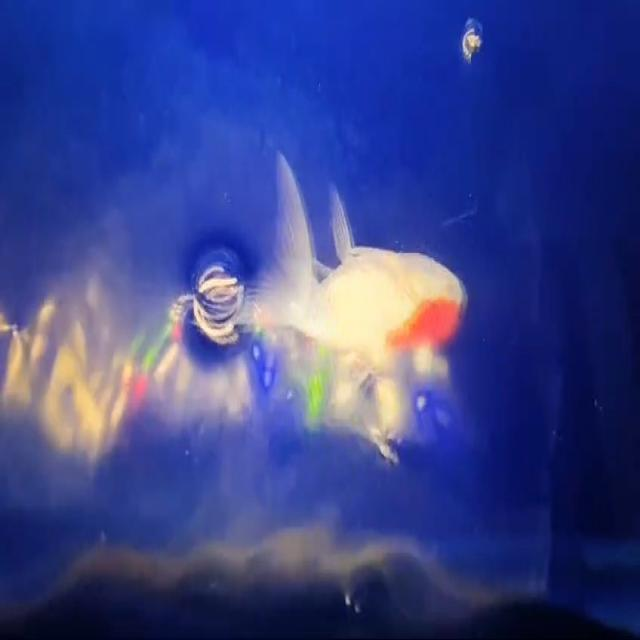fish: (248, 143, 475, 390)
